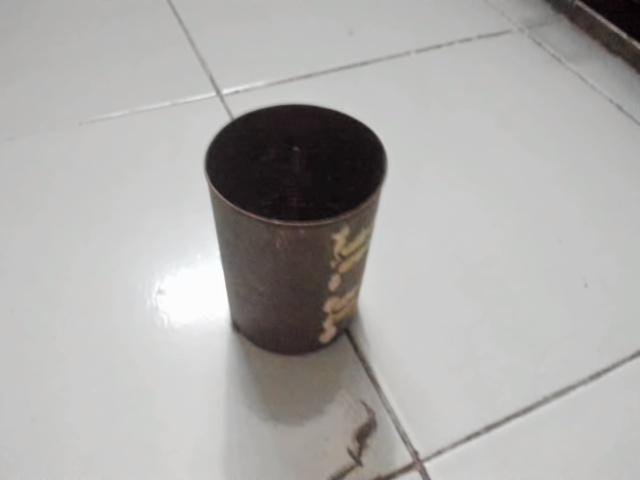anorganik: (197, 97, 397, 363)
